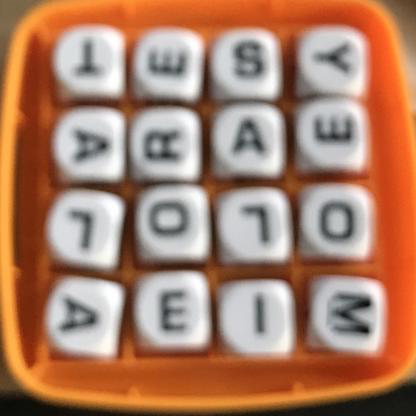a: (50, 280, 110, 347), (59, 115, 118, 172), (227, 108, 272, 167)
e: (143, 280, 206, 343), (301, 105, 366, 161), (143, 31, 198, 89)
i: (232, 280, 285, 345)
l: (47, 195, 118, 264), (225, 196, 286, 253)
m: (315, 275, 383, 348)
o: (308, 192, 368, 252), (144, 188, 200, 251)
r: (137, 119, 191, 169)
s: (225, 33, 273, 88)
t: (58, 28, 119, 87)
y: (309, 33, 361, 86)
